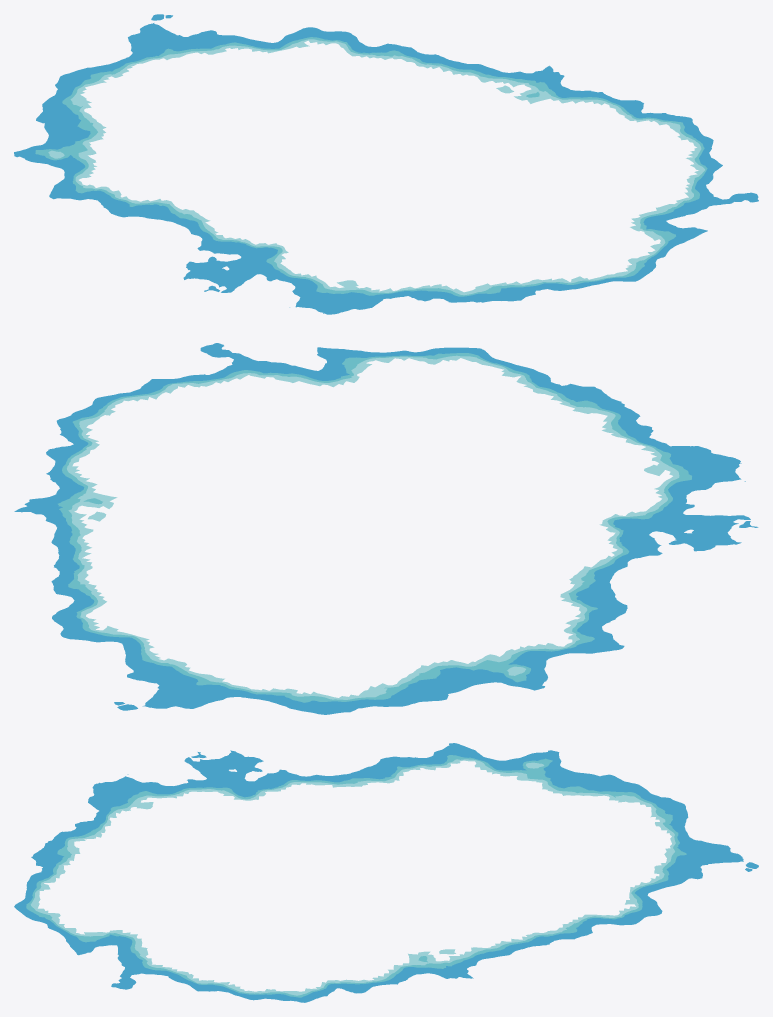
File: Isl-flat3-Water.fbx
3 views of the same model, one above another, from view 1: azimuth 30°, elevation 25°; view 2: azimuth 150°, elevation 25°; view 3: azimuth 270°, elevation 25° (orthographic). The views are drawn at different scales.
Parts seen in each view (by area): view 1: Isl-flat3-Water; view 2: Isl-flat3-Water; view 3: Isl-flat3-Water.
Boxes of the visible parts, x1,y1,x2,y2 form: Isl-flat3-Water: [14, 14, 758, 314]; Isl-flat3-Water: [14, 343, 758, 714]; Isl-flat3-Water: [14, 743, 758, 1002].
Size of the model in its own units: 120 by 0 by 145.
